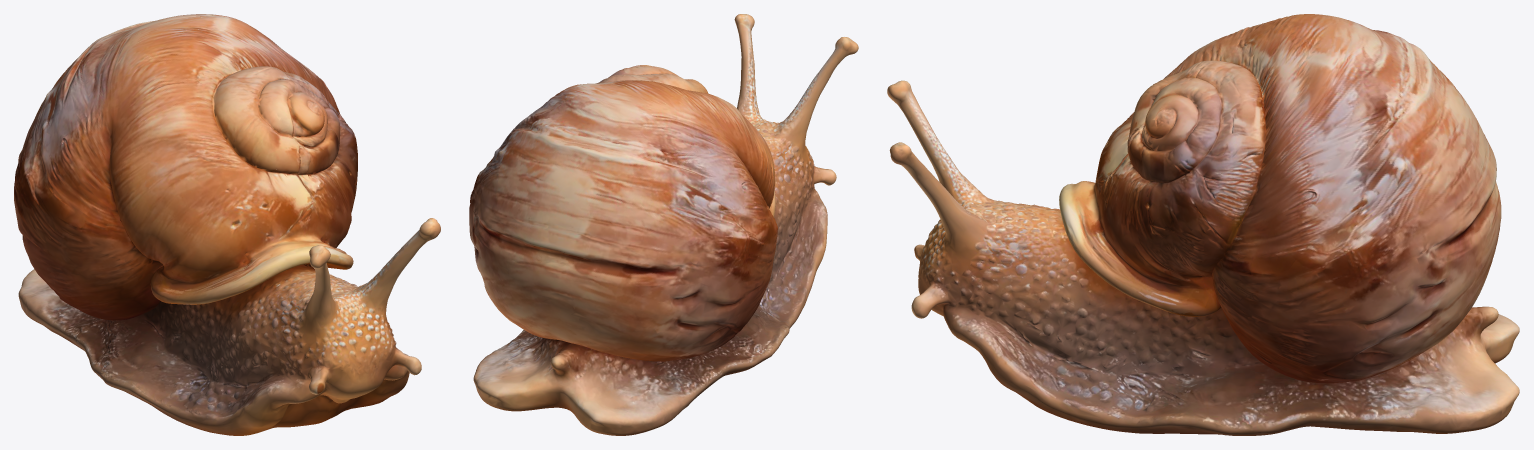
File: snail.opt.glb
The picture shows the model from 3 angles, left to right: view 1: azimuth 30°, elevation 25°; view 2: azimuth 150°, elevation 25°; view 3: azimuth 270°, elevation 25°; orthographic projection. The views are drawn at different scales.
Parts seen in each view (by area): view 1: tripo_node_c846ba27-b277-4649-94f5-ea18416ddf5d; view 2: tripo_node_c846ba27-b277-4649-94f5-ea18416ddf5d; view 3: tripo_node_c846ba27-b277-4649-94f5-ea18416ddf5d.
Part boxes in pixels (bbox=[...]): tripo_node_c846ba27-b277-4649-94f5-ea18416ddf5d: bbox=[14, 14, 440, 435]; tripo_node_c846ba27-b277-4649-94f5-ea18416ddf5d: bbox=[469, 14, 858, 435]; tripo_node_c846ba27-b277-4649-94f5-ea18416ddf5d: bbox=[887, 14, 1519, 435].
Size of the model in its own units: 0.6097 by 0.6026 by 0.9811.
1 material, 1 textured.
